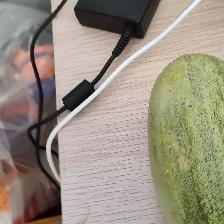gua: (153, 72, 215, 208)
